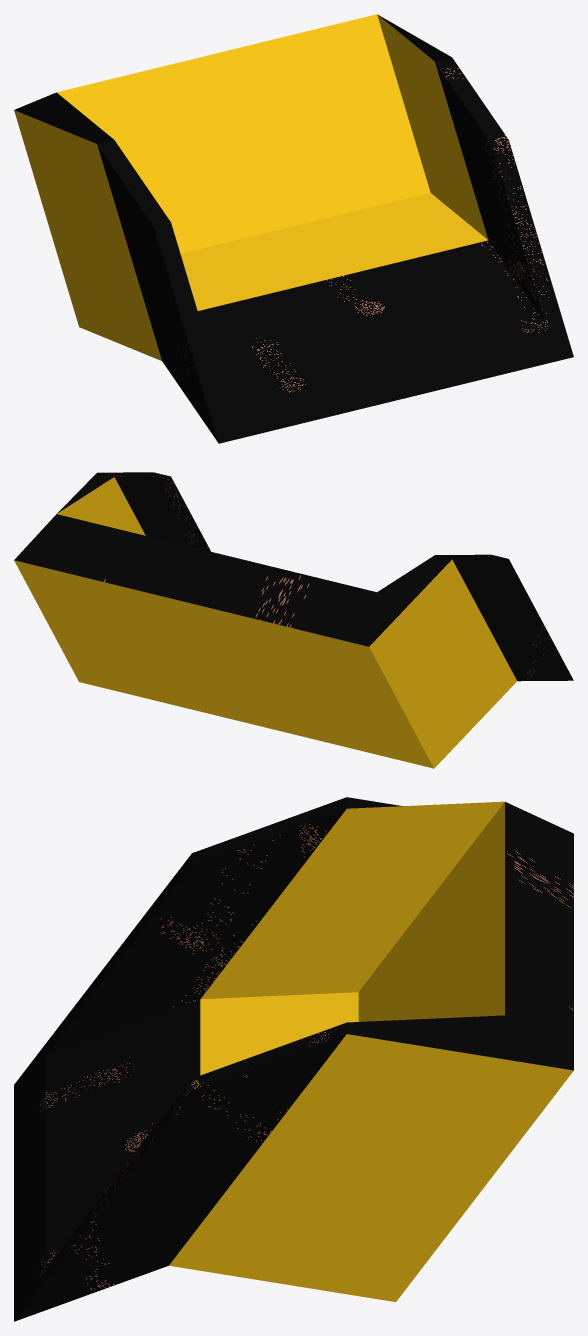
Rendered from shuffle.obj.
3 renders of one model, top to bottom at view 1: azimuth 30°, elevation 25°; view 2: azimuth 150°, elevation 25°; view 3: azimuth 270°, elevation 25°, orthographic. The views are drawn at different scales.
Parts seen in each view (by area): view 1: Shuffle_Cube.008; view 2: Shuffle_Cube.008; view 3: Shuffle_Cube.008.
Boxes of the visible parts, x1,y1,x2,y2 form: Shuffle_Cube.008: (14,14,573,443); Shuffle_Cube.008: (14,472,573,768); Shuffle_Cube.008: (14,797,573,1321).
Size of the model in its own units: 38.39 by 22.28 by 38.35.
2 materials, 2 textured.
